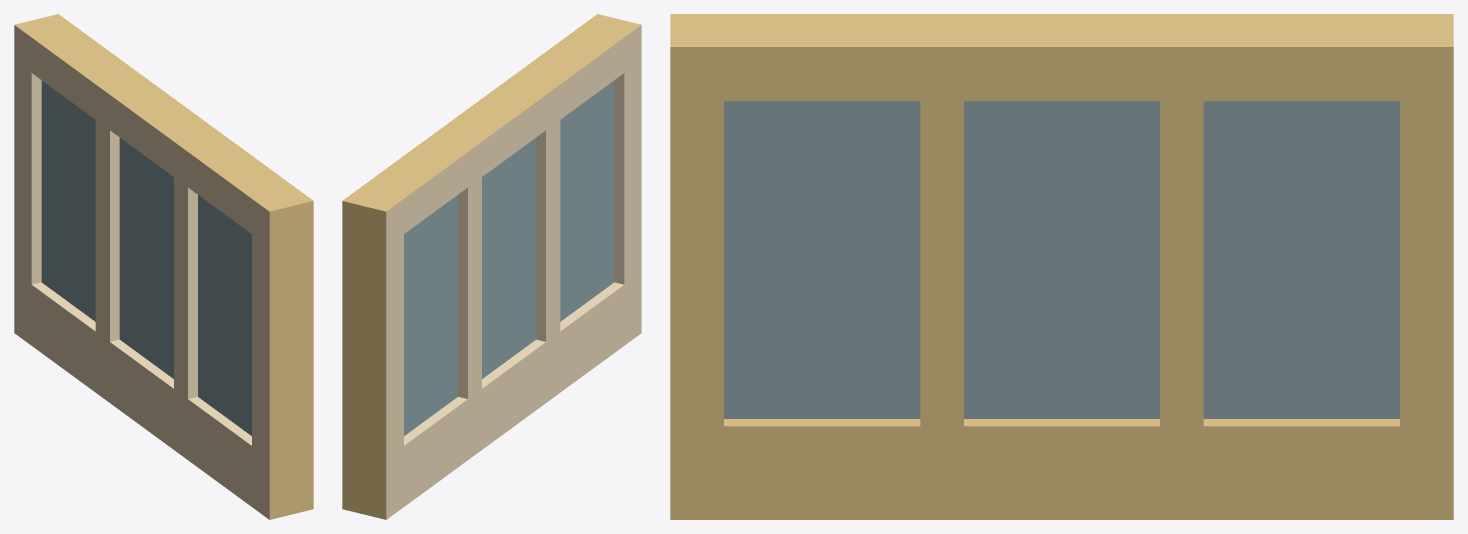
Rendered from SalleGardes_Mur01.fbx.
3 views of the same model, side by side, from view 1: azimuth 30°, elevation 25°; view 2: azimuth 150°, elevation 25°; view 3: azimuth 270°, elevation 25° (orthographic). The views are drawn at different scales.
Visible parts, largest first — view 1: Mur01; view 2: Mur01; view 3: Mur01.
Boxes of the visible parts, bbox=[...] form: Mur01: bbox=[14, 14, 313, 519]; Mur01: bbox=[342, 14, 641, 519]; Mur01: bbox=[670, 14, 1453, 519].
Bounding box in the file's own units: 0.9728 × 6.49 × 9.74.
